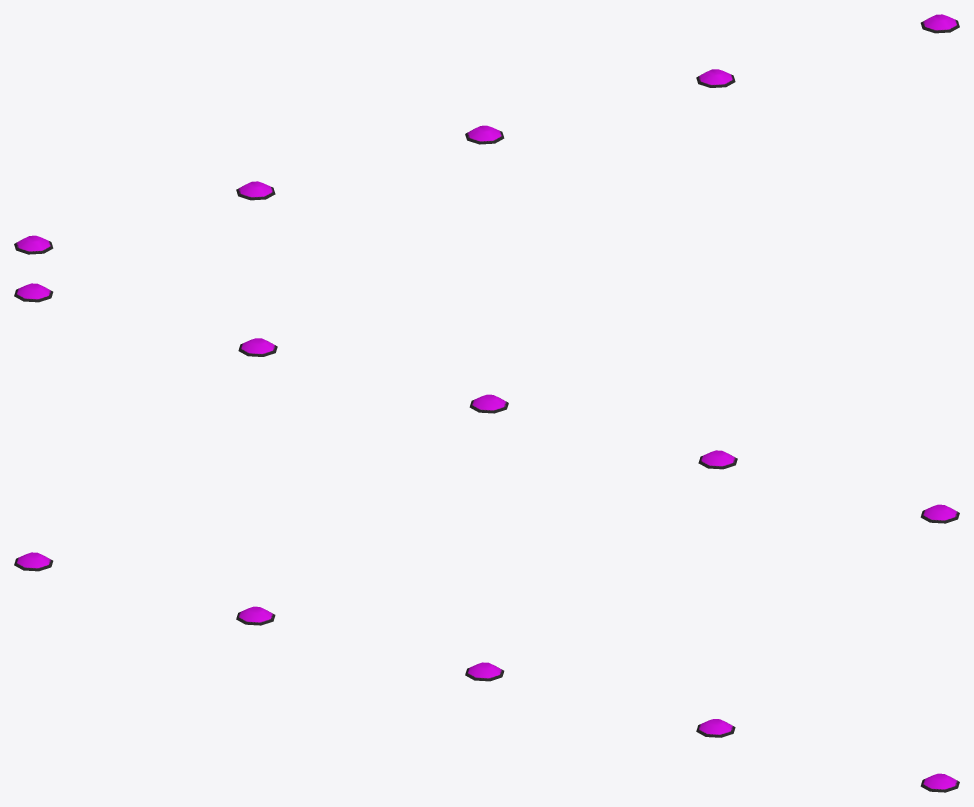
File: defaultconelp.glb
3 views of the same model, one above another, from view 1: azimuth 30°, elevation 25°; view 2: azimuth 150°, elevation 25°; view 3: azimuth 330°, elevation 25° (orthographic).
Parts seen in each view (by area): view 1: DefaultConeLP; view 2: DefaultConeLP; view 3: DefaultConeLP.
Boxes of the visible parts, bbox=[...] form: DefaultConeLP: bbox=[14, 14, 959, 254]; DefaultConeLP: bbox=[14, 283, 959, 523]; DefaultConeLP: bbox=[14, 552, 959, 792].
Size of the model in its own units: 8.31 by 0.0614 by 0.312.
1 material, 1 textured.
